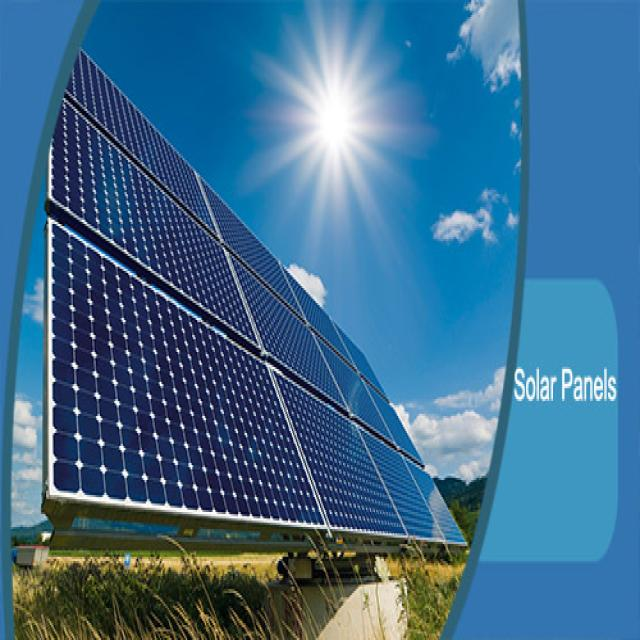clean-solar-panel: (45, 52, 465, 545)
